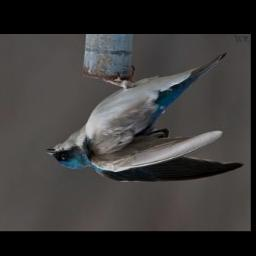Swallow: (42, 50, 245, 186)
